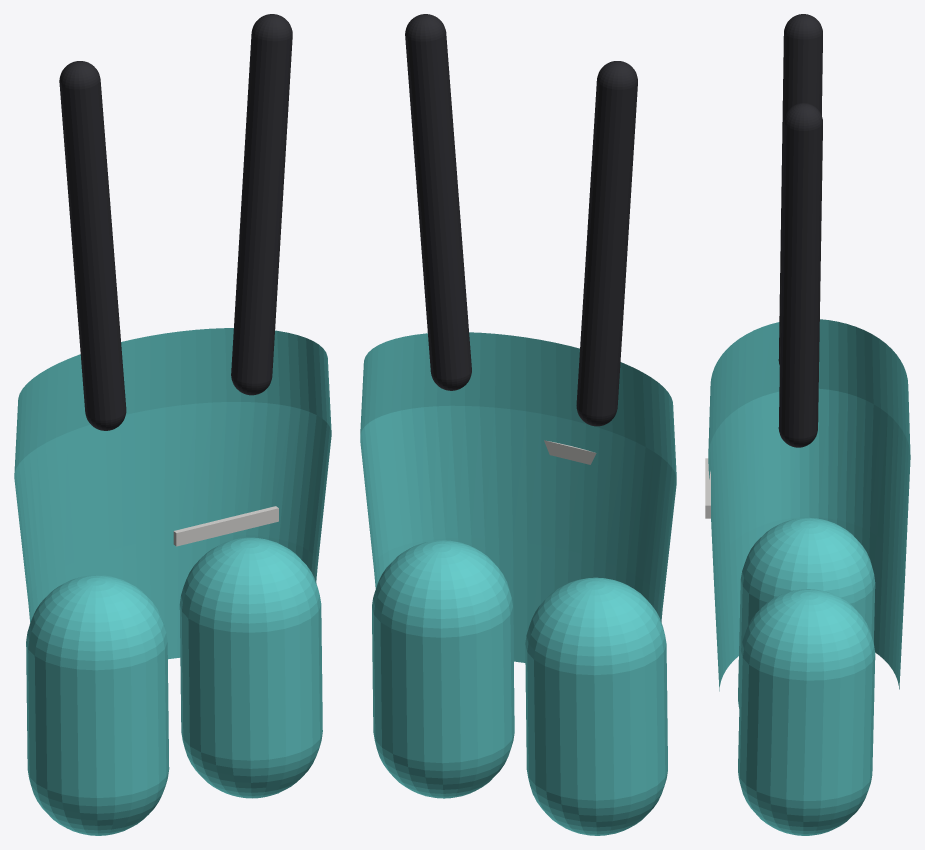
File: bib-tiffany.glb
3 renders of one model, left to right at view 1: azimuth 30°, elevation 25°; view 2: azimuth 150°, elevation 25°; view 3: azimuth 270°, elevation 25°, orthographic. The views are drawn at different scales.
Parts seen in each view (by area): view 1: BIB_HIPS, BIB_LEG_1, BIB_LEG_-1, BIB_STRAP_1, BIB_STRAP_-1, BIB_MARK; view 2: BIB_HIPS, BIB_LEG_-1, BIB_LEG_1, BIB_STRAP_1, BIB_STRAP_-1, BIB_MARK; view 3: BIB_HIPS, BIB_LEG_1, BIB_STRAP_1, BIB_LEG_-1, BIB_STRAP_-1.
Part boxes in pixels (x1,y1,x2,y2): BIB_HIPS: (14, 328, 331, 659); BIB_LEG_1: (179, 537, 322, 798); BIB_LEG_-1: (26, 575, 169, 835); BIB_STRAP_1: (231, 14, 292, 395); BIB_STRAP_-1: (59, 61, 126, 430); BIB_MARK: (173, 506, 278, 546); BIB_HIPS: (360, 332, 676, 662); BIB_LEG_-1: (525, 577, 667, 835); BIB_LEG_1: (372, 540, 514, 798); BIB_STRAP_1: (405, 14, 471, 390); BIB_STRAP_-1: (576, 61, 637, 426); BIB_MARK: (544, 440, 596, 464); BIB_HIPS: (708, 319, 910, 691); BIB_LEG_1: (738, 589, 875, 835); BIB_STRAP_1: (778, 103, 822, 447); BIB_LEG_-1: (738, 517, 875, 708); BIB_STRAP_-1: (778, 14, 822, 365).
Bounding box in the file's own units: 0.584 × 1.44 × 0.365.
